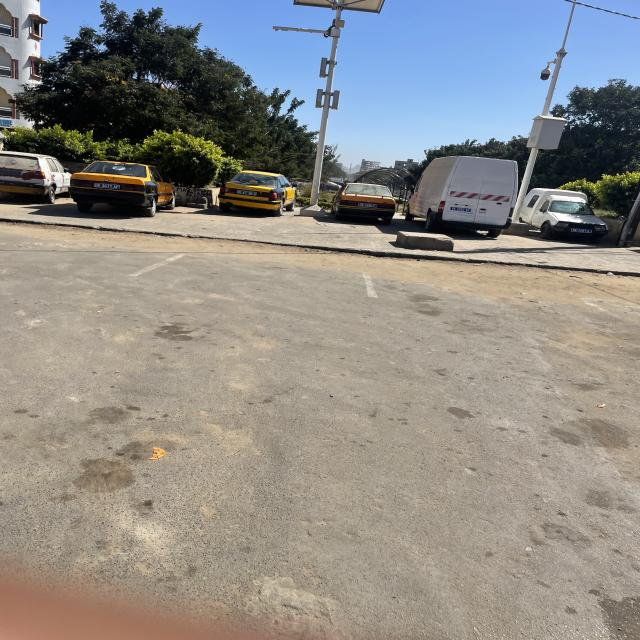fourgon: (406, 157, 519, 239)
particulier: (521, 190, 609, 244), (1, 152, 71, 205)
taxi: (71, 162, 178, 217), (219, 172, 298, 217), (334, 184, 398, 225)
